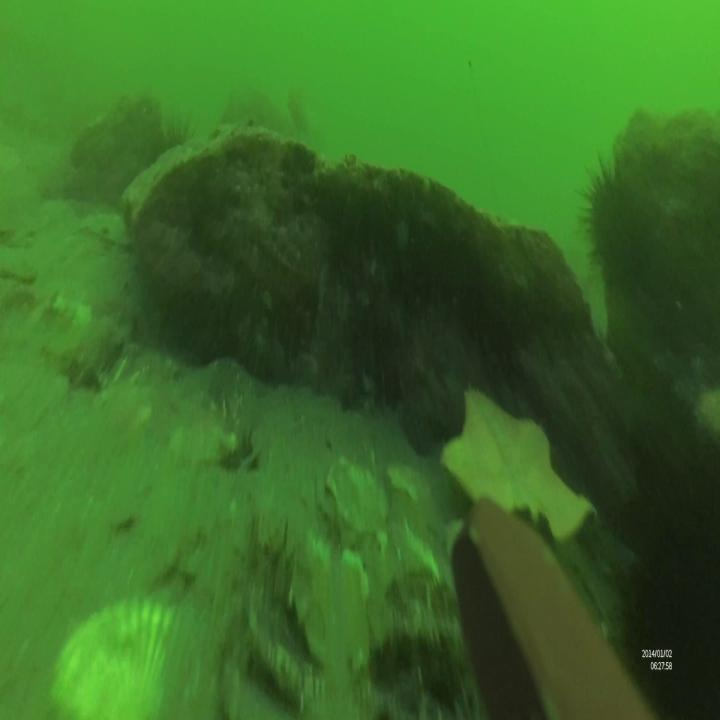echinus: (578, 168, 644, 274), (144, 116, 205, 185)
scallop: (46, 595, 173, 720)
starfish: (442, 382, 594, 533)
